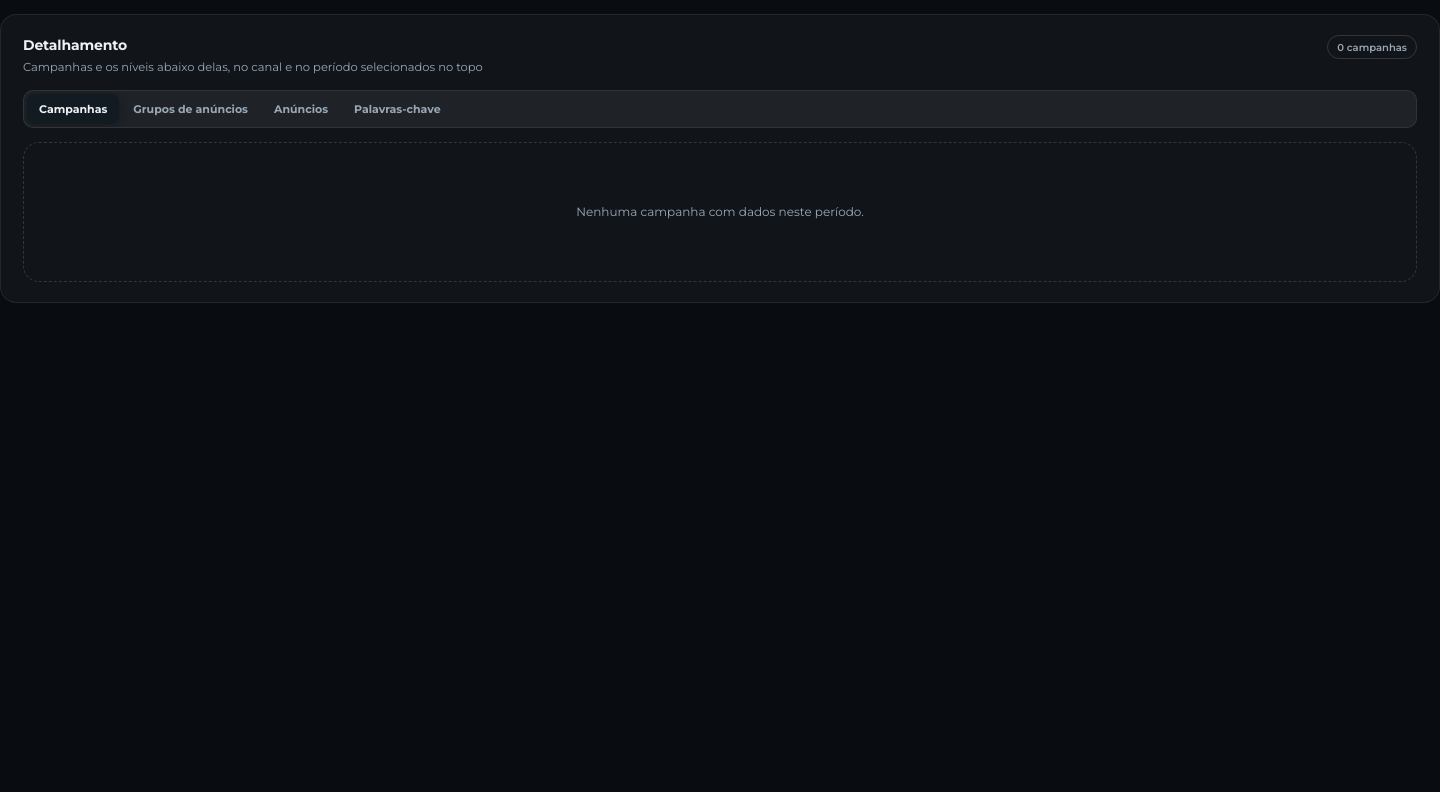
Scenario: detalhamento de mídia: Top 5 e expansão › mudar a ordenação recolhe a tabela de volta para 5
Click the tab "Palavras-chave" at (397, 109), box [342,94,453,124]
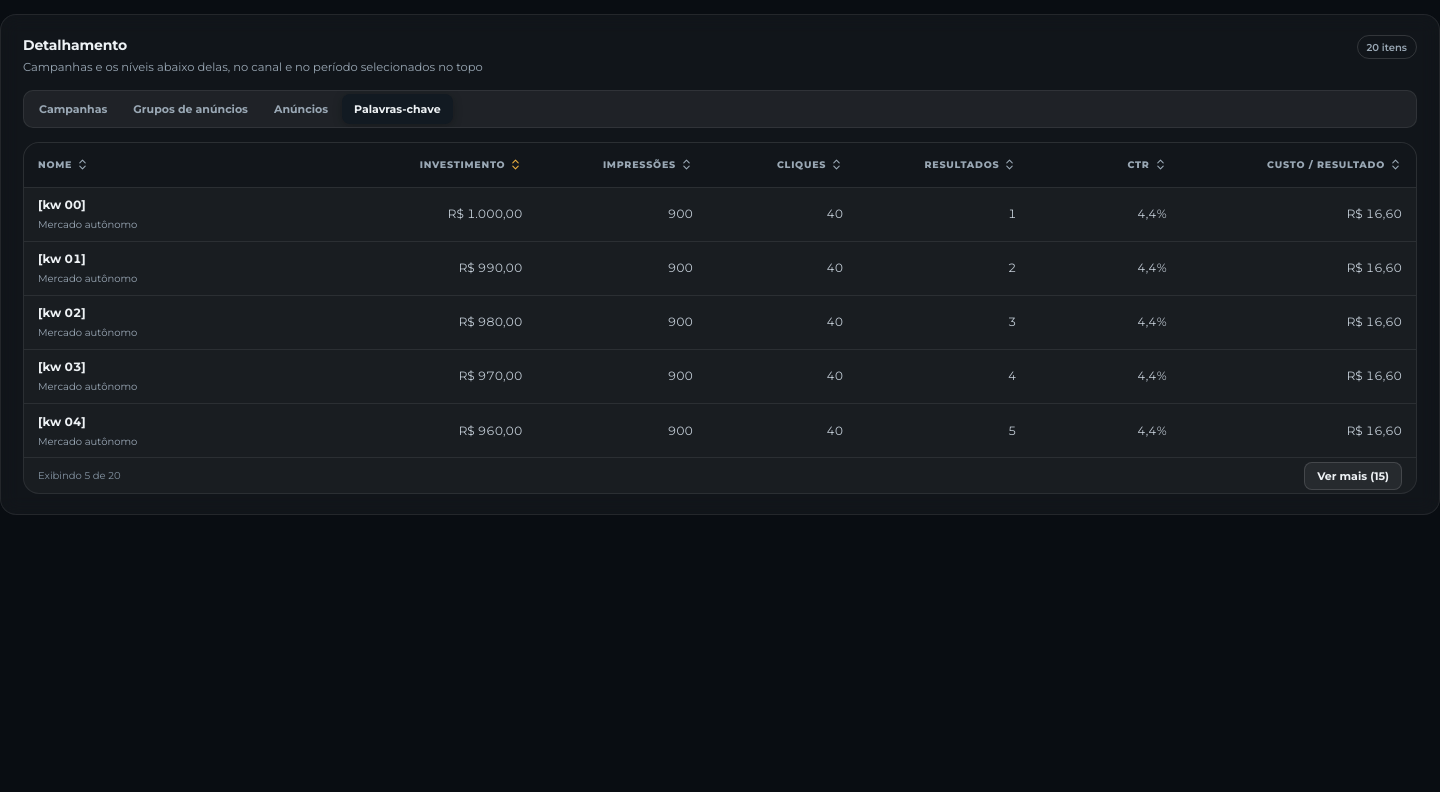
Click the button "Ver mais (15)" at (1353, 476), box [1304,462,1402,490]
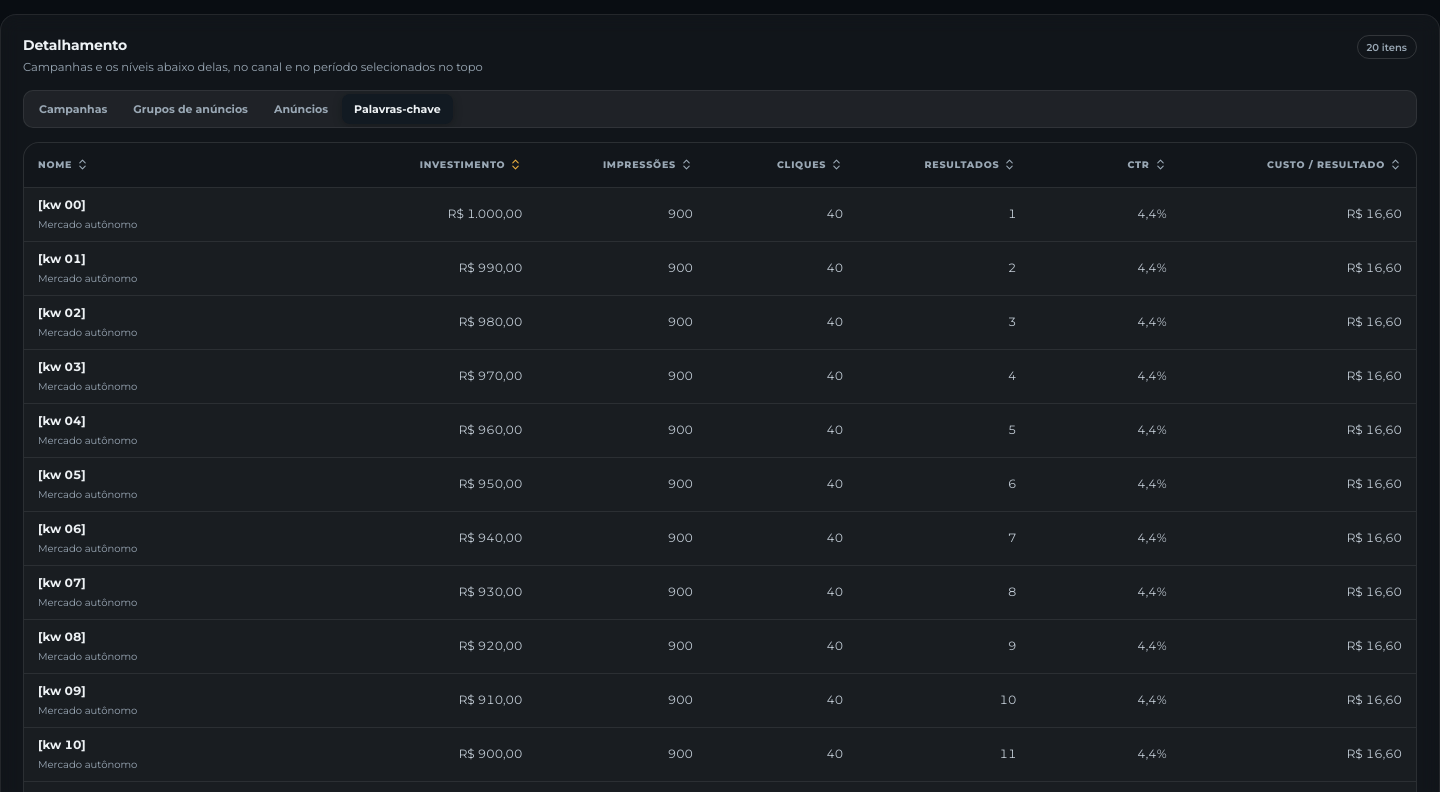
Click the button "Resultados" at (944, 165), box [871,158,1016,172]
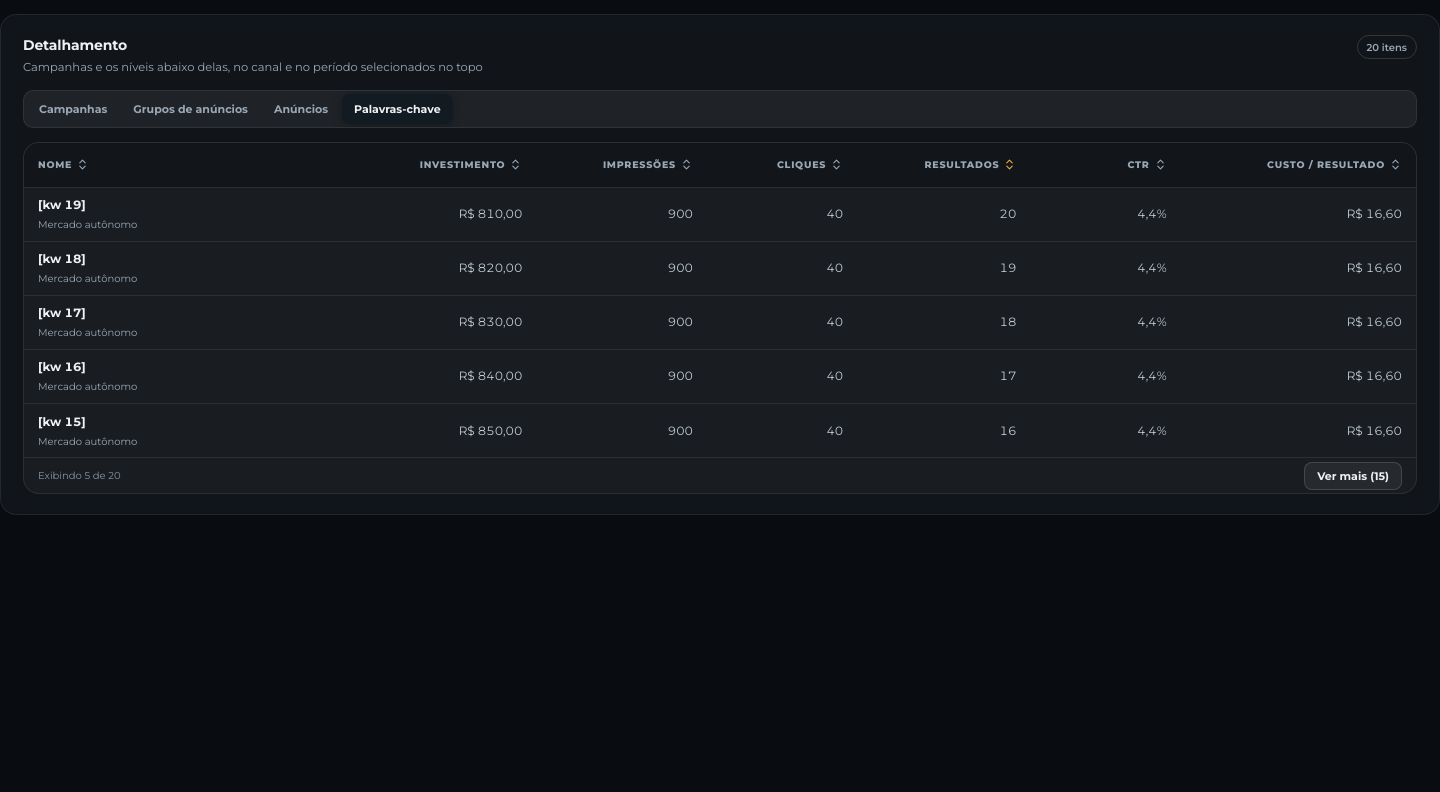
Now the text with class "table-count" reads "Exibindo 5 de 20", box [38,469,120,482]
